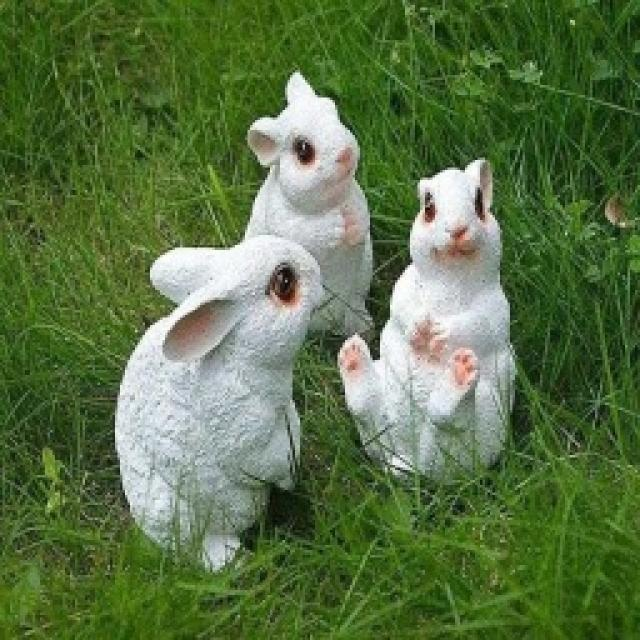not_pig: (112, 233, 322, 575), (335, 155, 517, 487), (240, 68, 372, 338)
